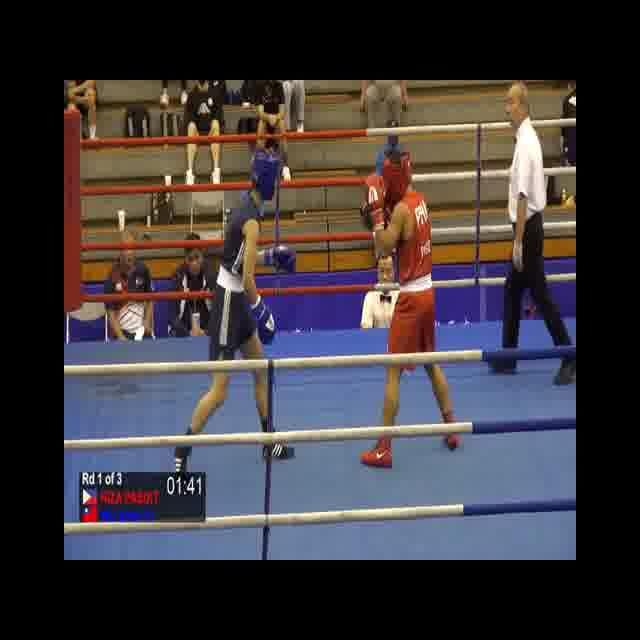blue-player: (171, 148, 295, 485)
red-player: (360, 144, 461, 474)
referee: (480, 80, 577, 389)
